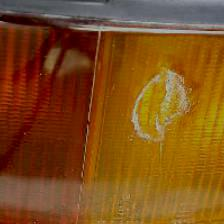tail_lamp: (121, 56, 208, 158)
